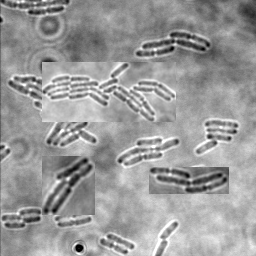Dividing: (99, 238, 128, 255), (56, 217, 92, 228), (27, 7, 64, 17), (54, 216, 90, 222)
Microcolony: (42, 62, 176, 122), (7, 76, 98, 147), (42, 156, 95, 215), (149, 167, 229, 194), (117, 137, 180, 168), (135, 32, 211, 57), (195, 120, 238, 155), (1, 208, 42, 229)
Rod: (106, 233, 135, 251), (157, 222, 178, 240)
